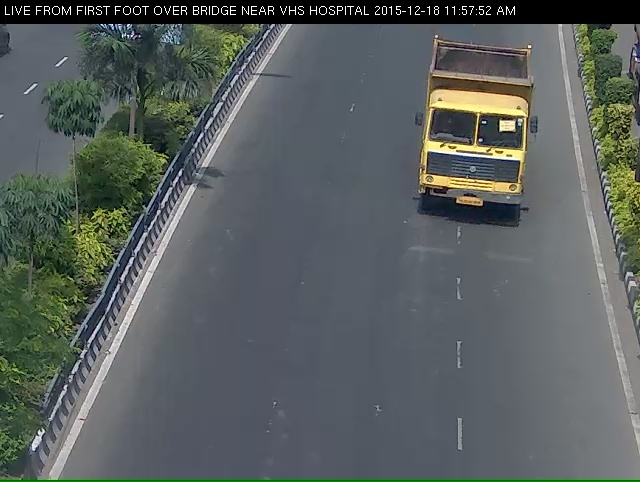Bus: (412, 41, 540, 237)
